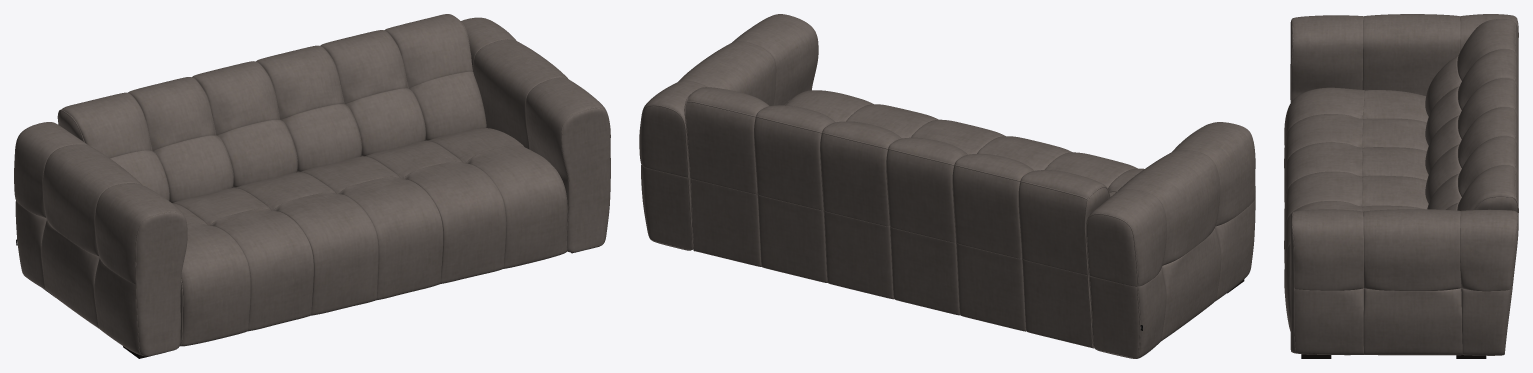
File: Einzelsofa-Luzern.glb
3 renders of one model, left to right at view 1: azimuth 30°, elevation 25°; view 2: azimuth 150°, elevation 25°; view 3: azimuth 270°, elevation 25°, orthographic. The views are drawn at different scales.
Visible parts, largest first — view 1: 196151_Einzelsofa-Luzern; view 2: 196151_Einzelsofa-Luzern; view 3: 196151_Einzelsofa-Luzern.
Part boxes in pixels (box(x1,y1,x2,y2)): 196151_Einzelsofa-Luzern: box(14, 14, 610, 358); 196151_Einzelsofa-Luzern: box(639, 14, 1255, 358); 196151_Einzelsofa-Luzern: box(1284, 14, 1518, 358).
Size of the model in its own units: 2.3 by 0.73 by 1.03.
3 materials, 3 textured.
